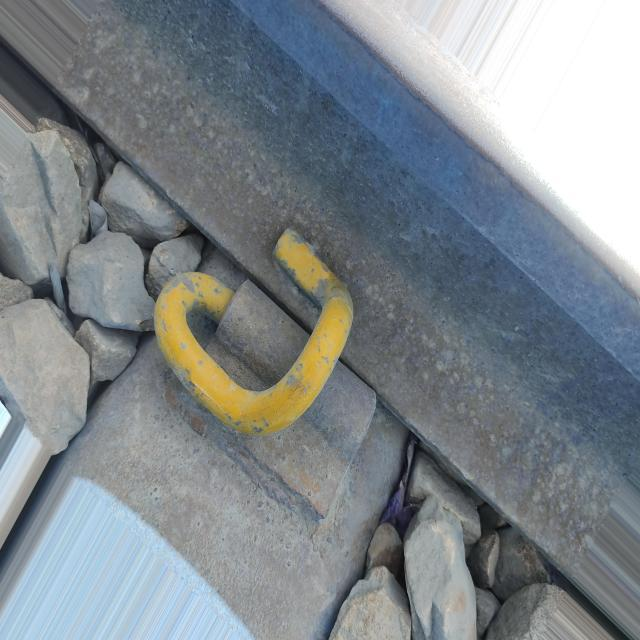Good Fasteners: (144, 213, 385, 554)
